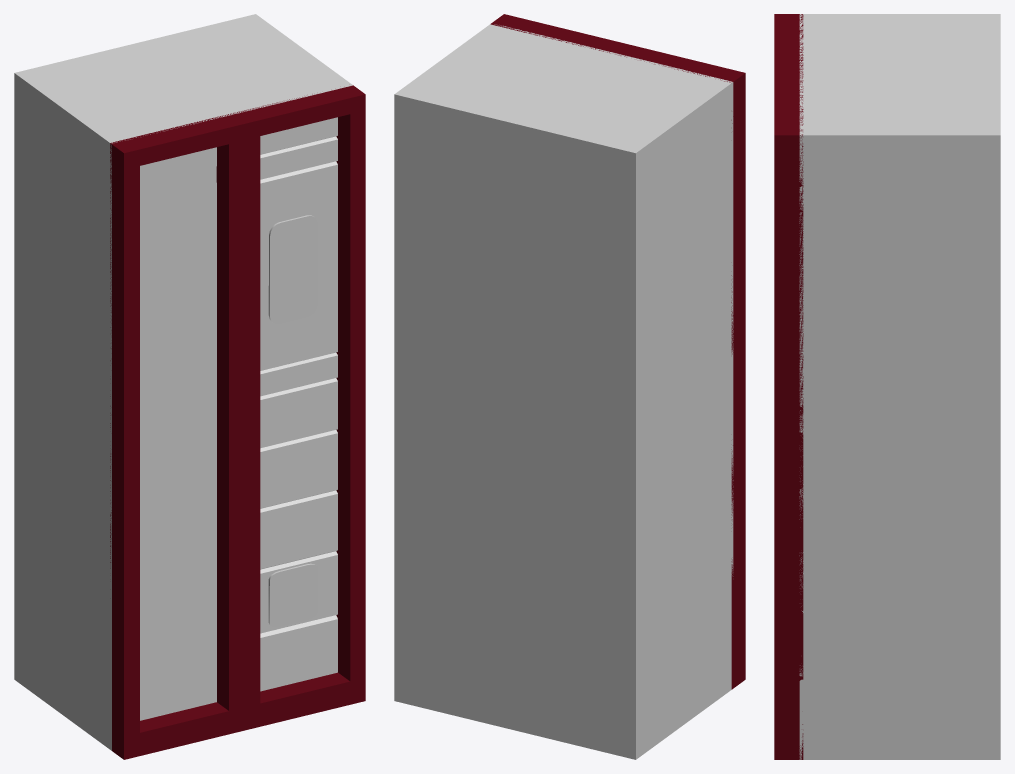
File: S_Disjoncteur3ID.fbx
3 renders of one model, left to right at view 1: azimuth 30°, elevation 25°; view 2: azimuth 150°, elevation 25°; view 3: azimuth 270°, elevation 25°, orthographic. The views are drawn at different scales.
Parts seen in each view (by area): view 1: 003, 003.001, 003.002, 003.003; view 2: 003, 003.001; view 3: 003, 003.001.
Part boxes in pixels (box(x1,y1,x2,y2)): 003: box(14, 14, 352, 750); 003.001: box(110, 85, 365, 759); 003.002: box(268, 215, 318, 324); 003.003: box(268, 563, 318, 627); 003: box(394, 24, 733, 759); 003.001: box(490, 14, 745, 689); 003: box(799, 14, 1000, 759); 003.001: box(774, 14, 803, 759).
Size of the model in its own units: 125 by 300 by 98.4.
